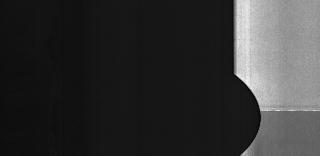welding line: (254, 108, 320, 115)
